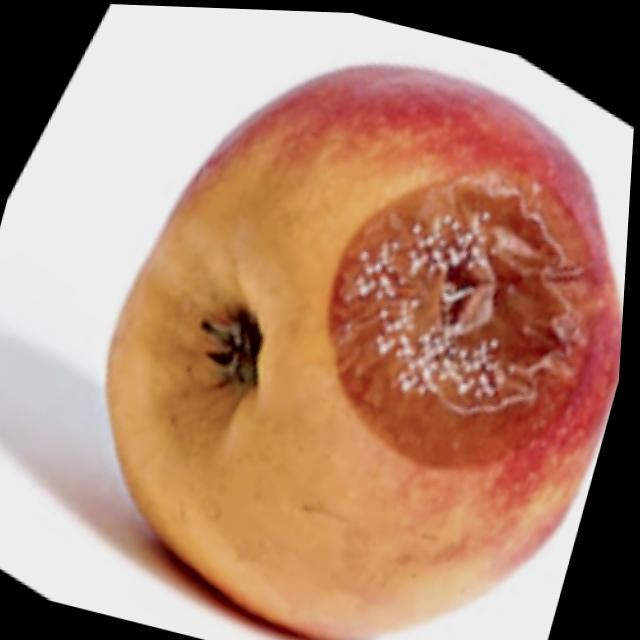organik: (0, 1, 640, 640)
